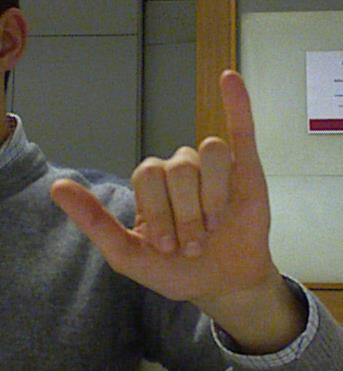clockwise: (40, 64, 275, 298)
